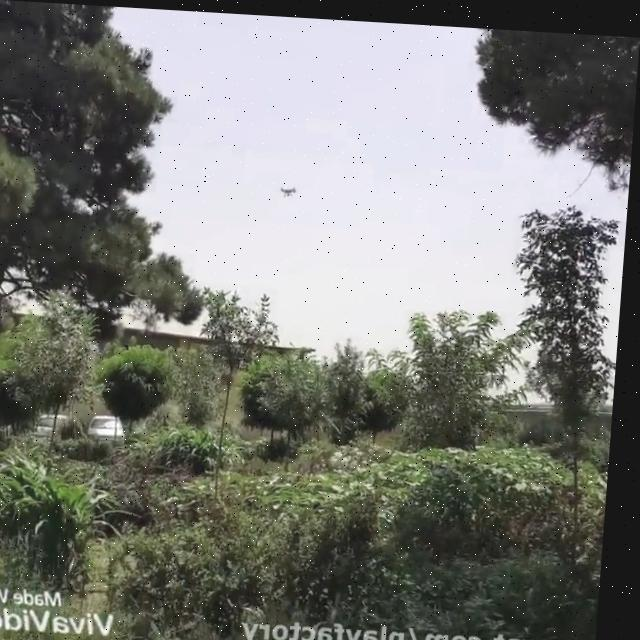drone: (278, 175, 304, 197)
